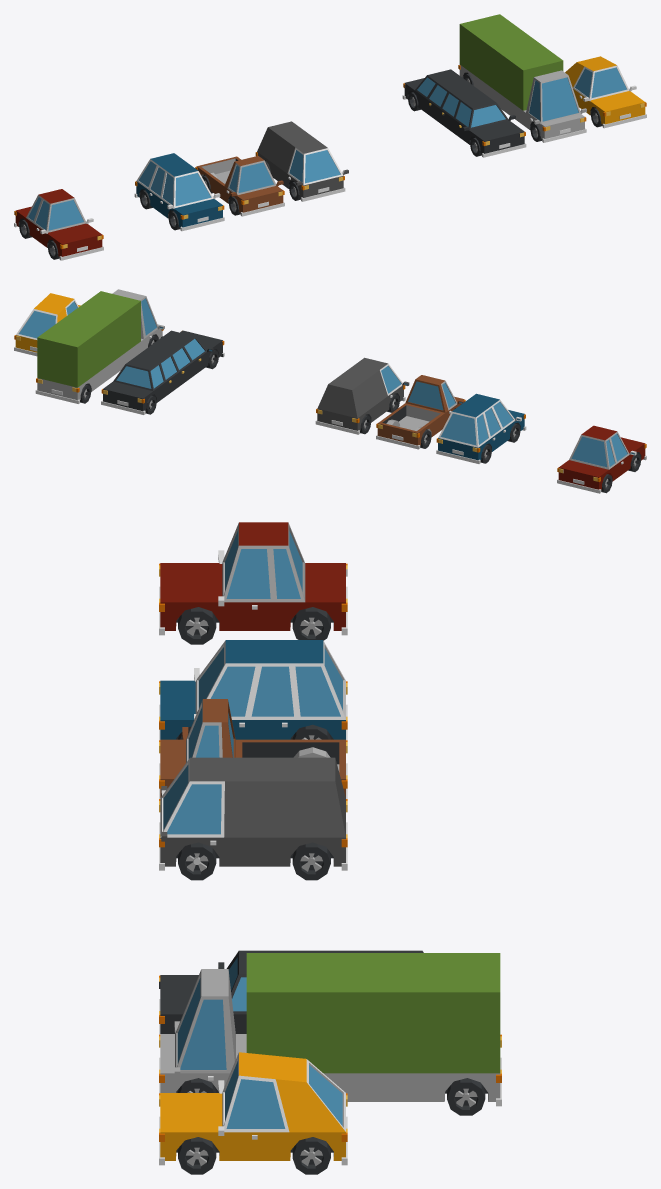
File: voitures.fbx
3 views of the same model, one above another, from view 1: azimuth 30°, elevation 25°; view 2: azimuth 150°, elevation 25°; view 3: azimuth 270°, elevation 25° (orthographic). The views are drawn at different scales.
Parts seen in each view (by area): view 1: camion, limousine, mini van, voiture 2, voiture, voiture 3, camionette; view 2: camion, limousine, mini van, voiture 2, voiture, camionette, voiture 3; view 3: camion, mini van, voiture 3, voiture, voiture 2, camionette, limousine.
Part boxes in pixels (<box>): camion: <box>458,14,586,142</box>; limousine: <box>402,69,526,157</box>; mini van: <box>255,121,348,201</box>; voiture 2: <box>134,153,224,231</box>; voiture: <box>14,189,103,260</box>; voiture 3: <box>565,56,646,128</box>; camionette: <box>195,156,284,216</box>; camion: <box>35,289,164,403</box>; limousine: <box>101,330,224,414</box>; mini van: <box>315,357,409,434</box>; voiture 2: <box>436,393,526,463</box>; voiture: <box>557,425,646,493</box>; camionette: <box>376,375,465,449</box>; voiture 3: <box>14,293,80,356</box>; camion: <box>159,953,501,1115</box>; mini van: <box>159,757,347,880</box>; voiture 3: <box>159,1052,347,1174</box>; voiture: <box>159,522,347,644</box>; voiture 2: <box>159,640,347,740</box>; camionette: <box>159,699,347,798</box>; limousine: <box>159,950,423,1034</box>.
Bounding box in the file's own units: 2957 × 292 × 738.
